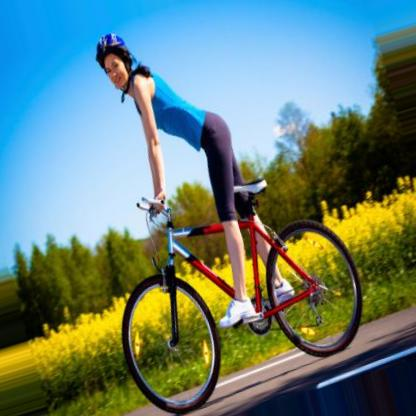with helmet: (95, 34, 137, 89)
